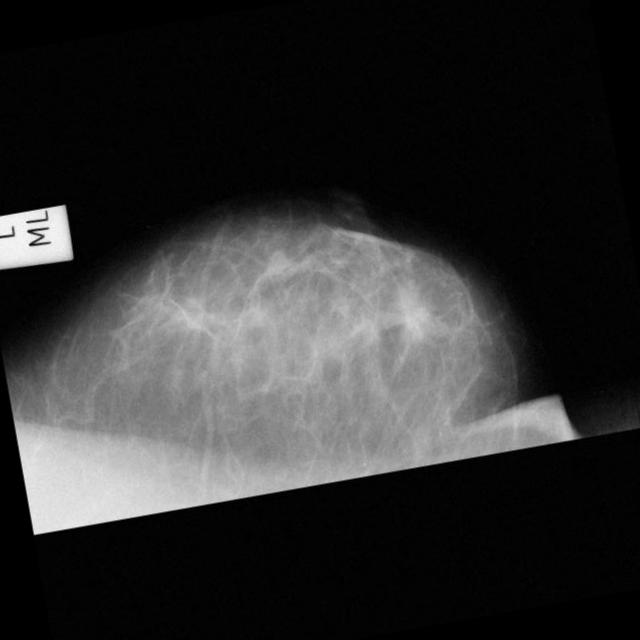SPIC: (374, 269, 453, 347)
